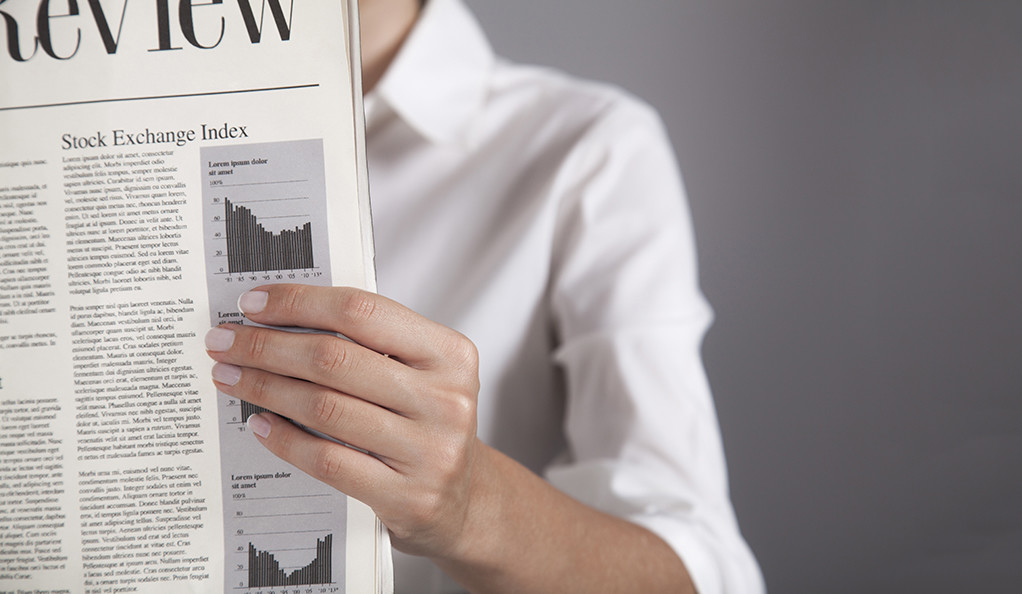news_paper: (1, 1, 437, 594)
